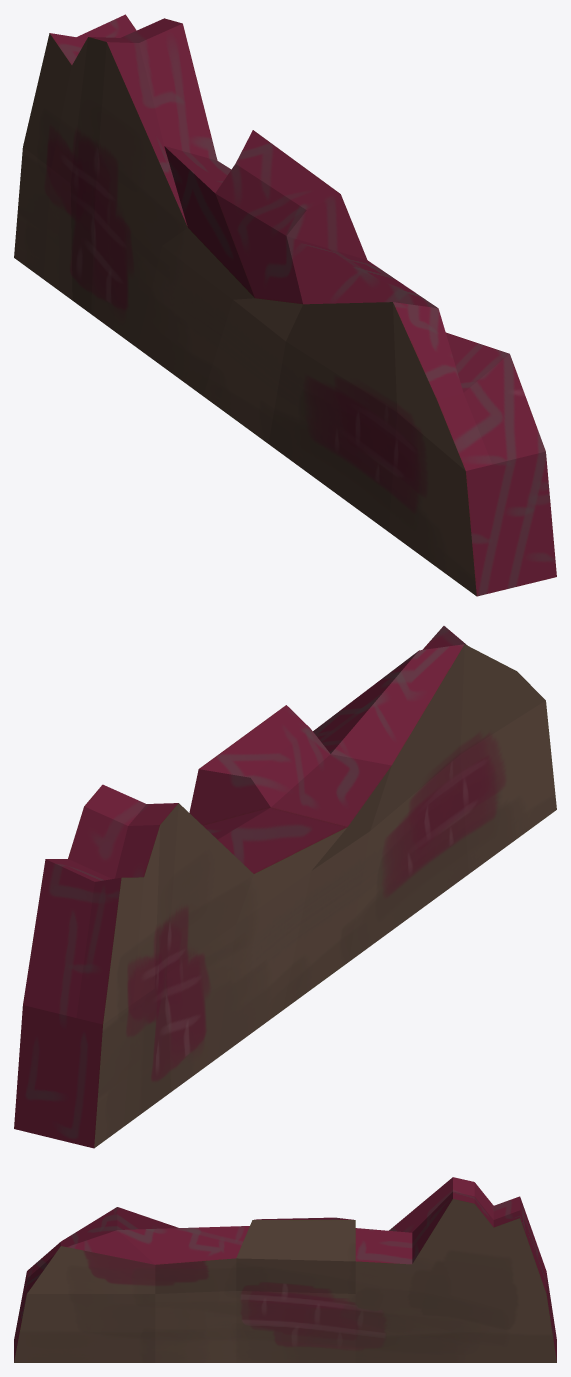
File: ruin-wall.fbx
3 renders of one model, top to bottom at view 1: azimuth 30°, elevation 25°; view 2: azimuth 150°, elevation 25°; view 3: azimuth 270°, elevation 25°, orthographic. The views are drawn at different scales.
Parts seen in each view (by area): view 1: Cube; view 2: Cube; view 3: Cube.
Part boxes in pixels (x1,y1,x2,y2): Cube: (14, 14, 556, 596); Cube: (14, 626, 556, 1148); Cube: (14, 1177, 556, 1362).
Size of the model in its own units: 32.37 by 100 by 300.
